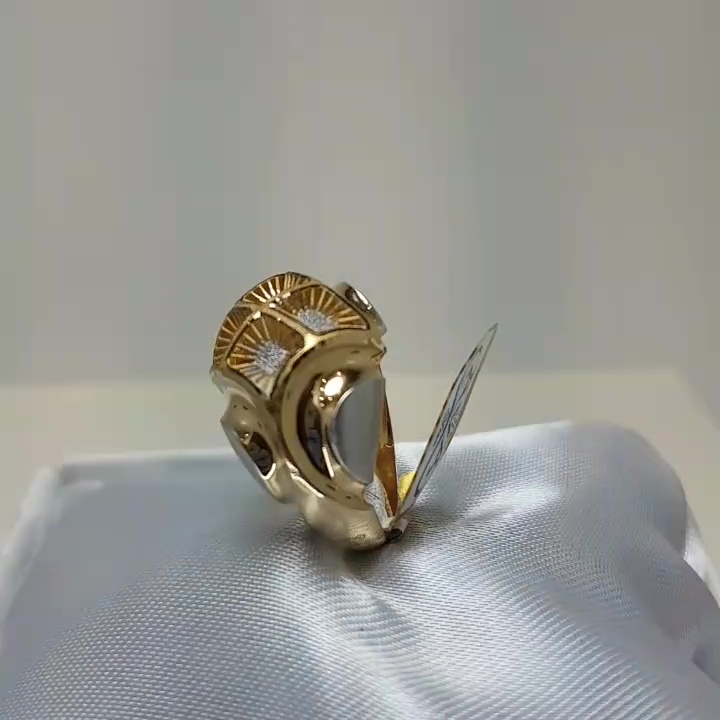Ring 2: (172, 230, 478, 568)
